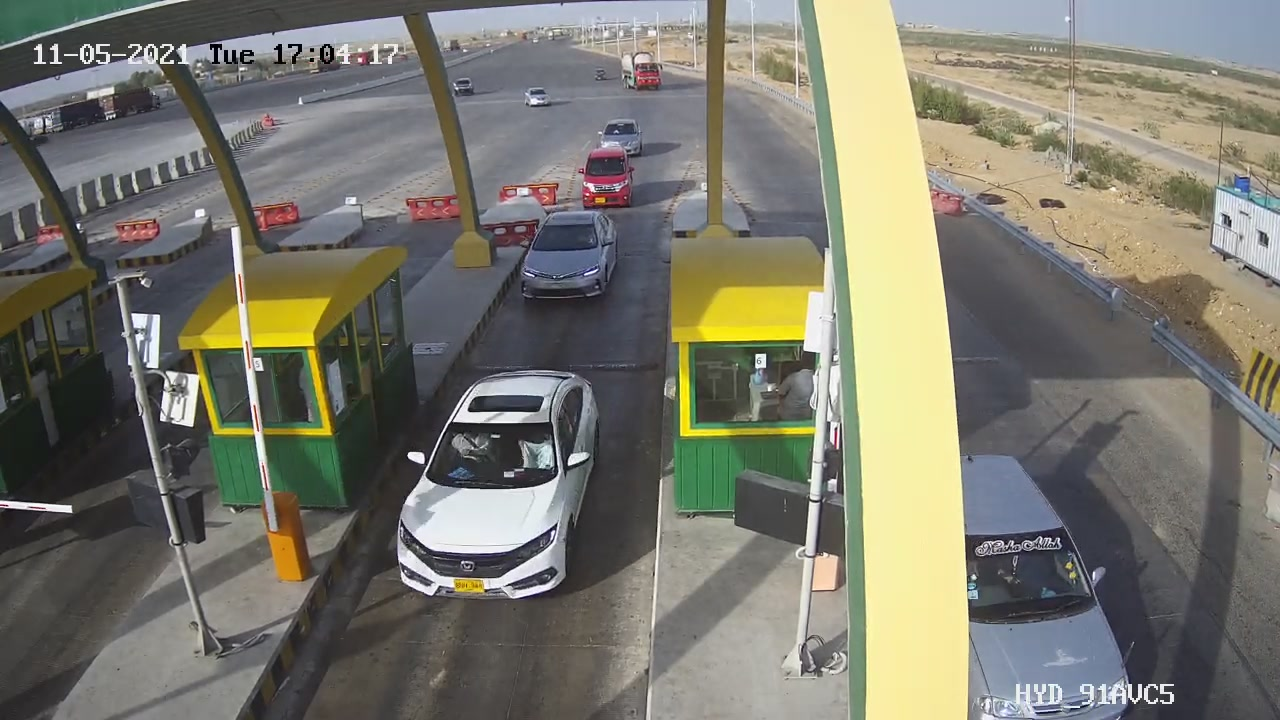F1: (379, 344, 625, 626), (504, 196, 633, 320)
